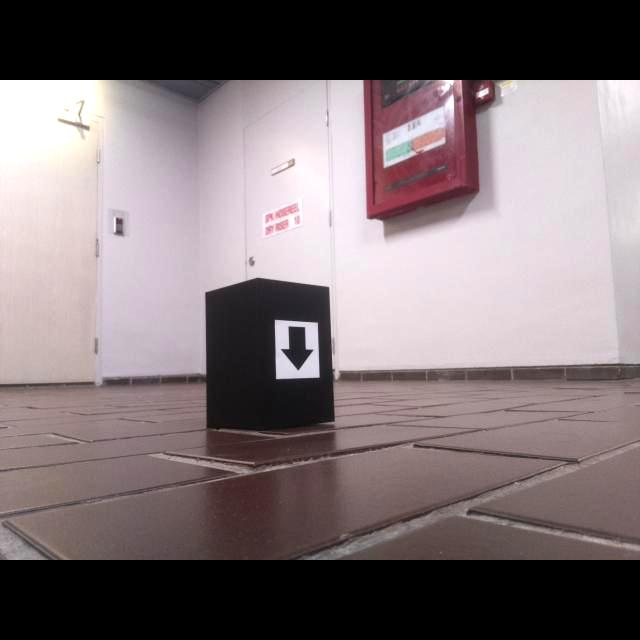DOWN: (280, 326, 315, 372)
